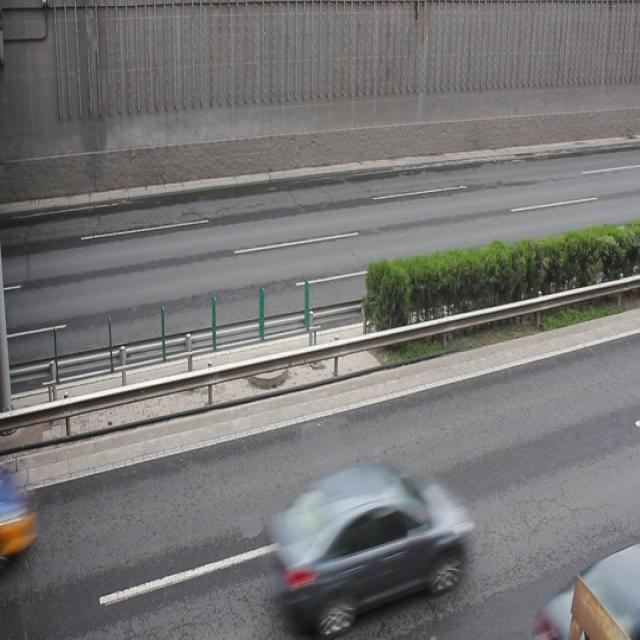car: (271, 462, 465, 626), (540, 548, 640, 640)
